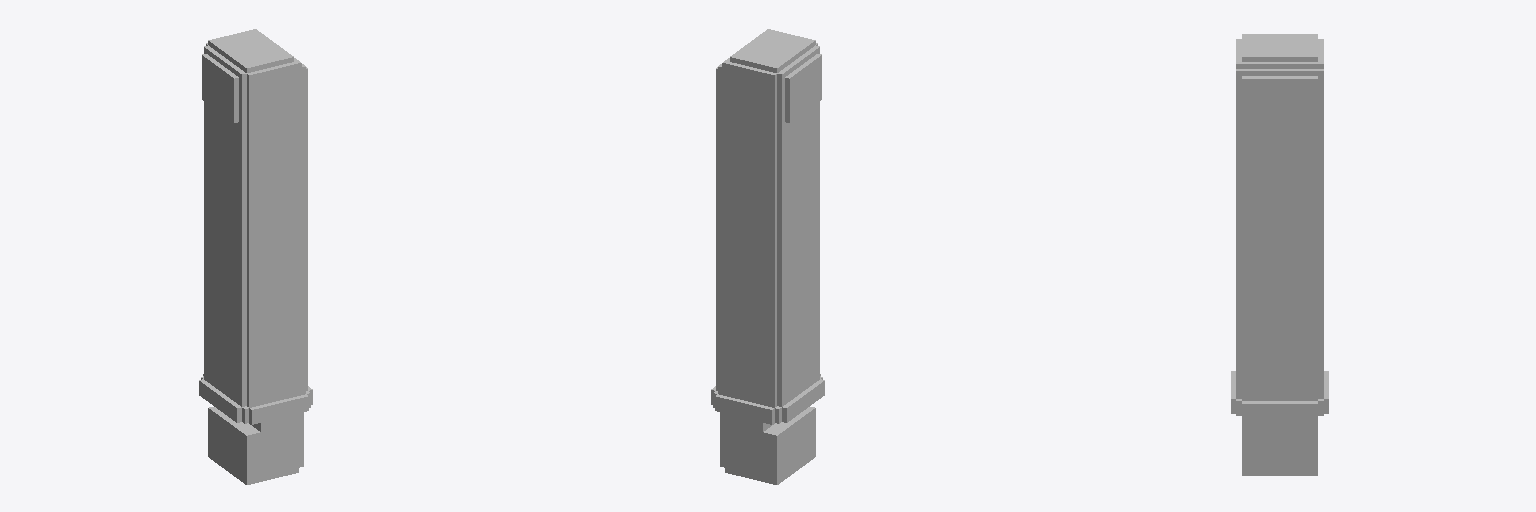
Rendered from Levaya_ruka_sinyaya.obj.
3 renders of one model, left to right at view 1: azimuth 30°, elevation 25°; view 2: azimuth 150°, elevation 25°; view 3: azimuth 270°, elevation 25°, orthographic.
Parts seen in each view (by area): view 1: object 1; view 2: object 1; view 3: object 1.
Part boxes in pixels (bbox=[...]): object 1: bbox=[199, 29, 312, 484]; object 1: bbox=[711, 29, 824, 484]; object 1: bbox=[1231, 34, 1328, 475].
Size of the model in its own units: 1.6 by 8.4 by 1.8.